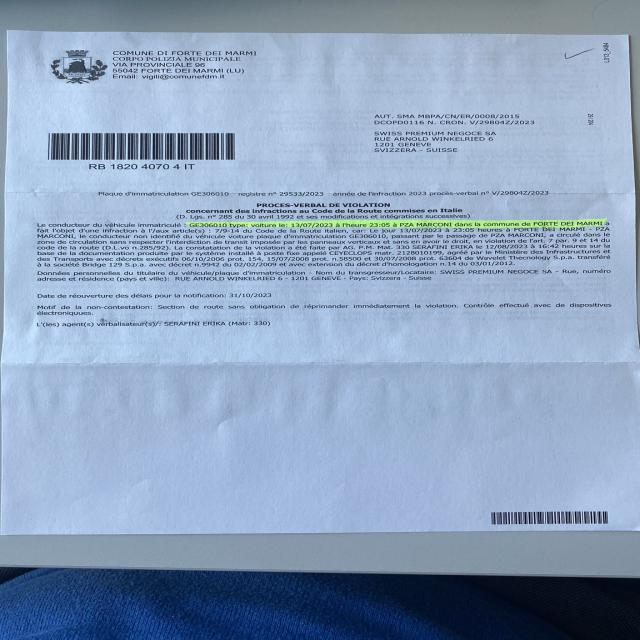paper-document-: (0, 30, 639, 535)
